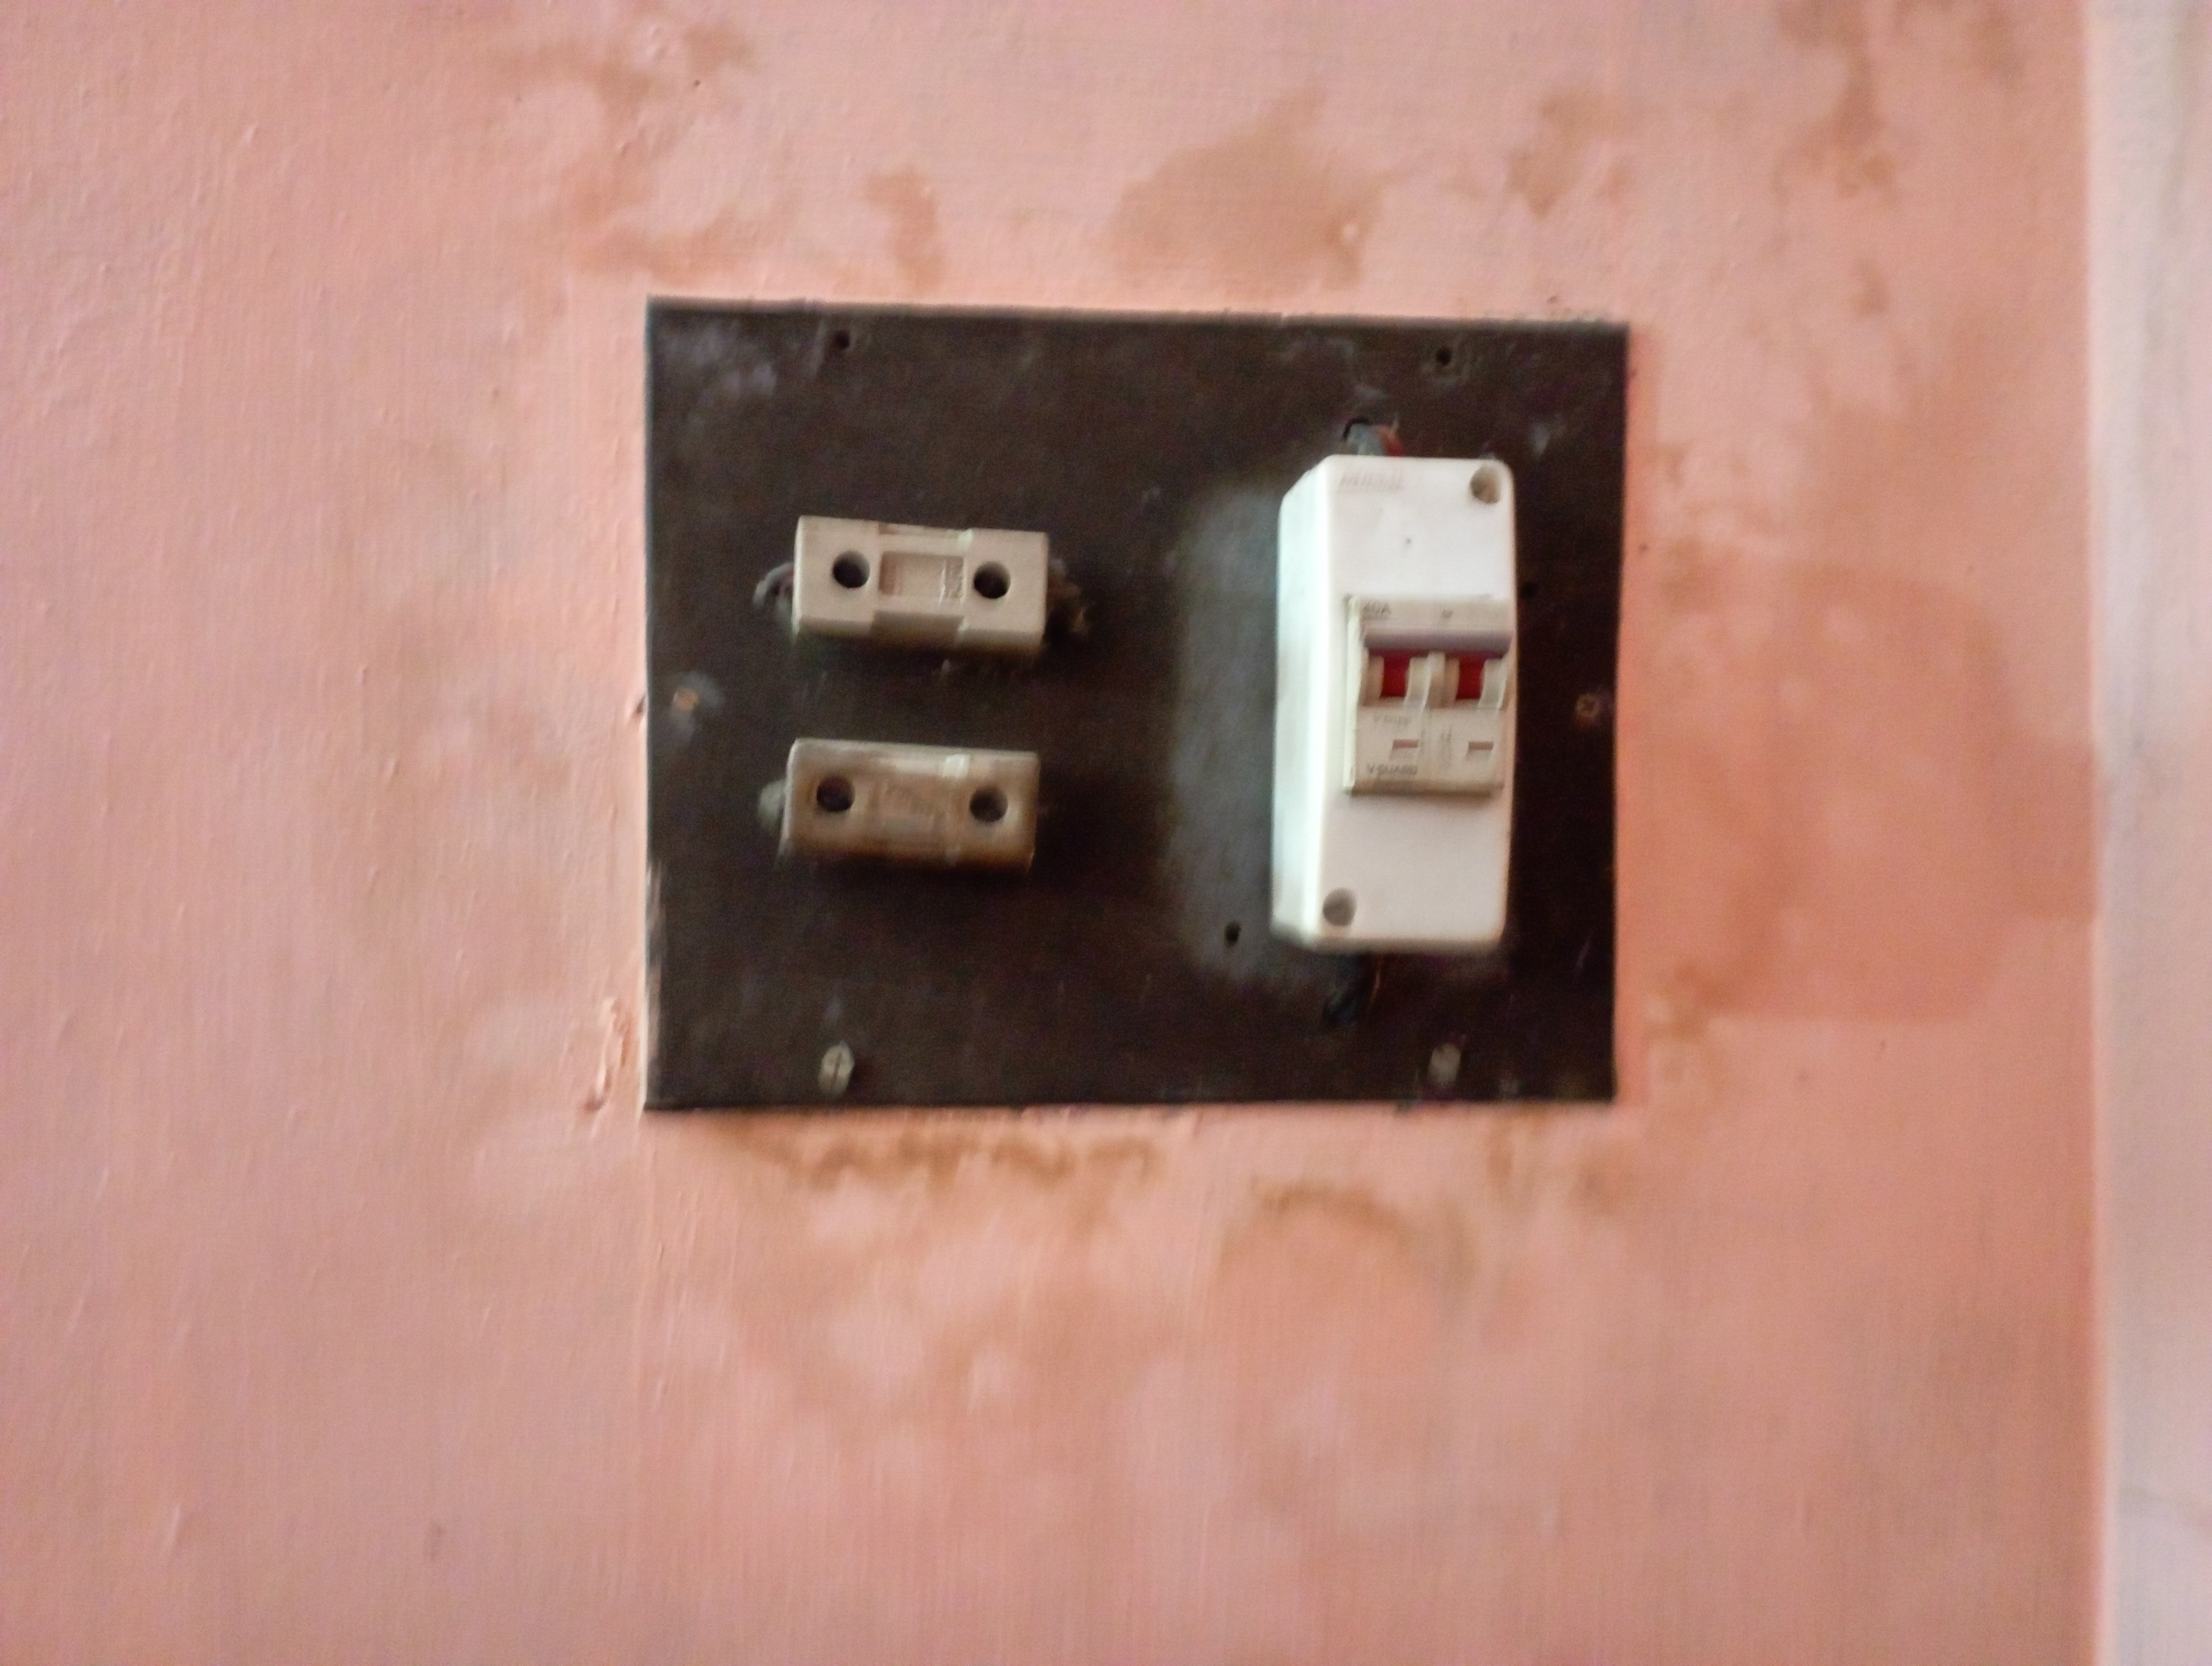ciruit_breaker: (1263, 452, 1528, 956)
fuse: (778, 728, 1051, 886), (773, 511, 1075, 653)
